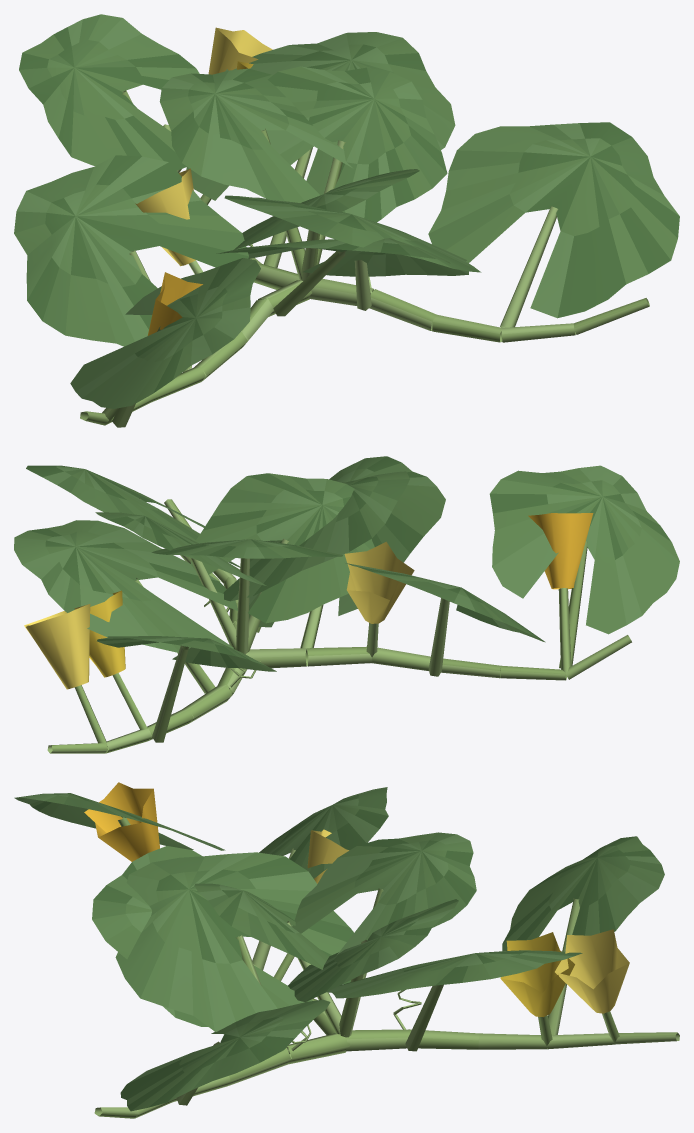
The model's file is melon_fleurs.glb.
3 renders of one model, top to bottom at view 1: azimuth 30°, elevation 25°; view 2: azimuth 150°, elevation 25°; view 3: azimuth 270°, elevation 25°, orthographic. The views are drawn at different scales.
Visible parts, largest first — view 1: Melon_Feuilles, Melon_Tiges, Melon_Fleurs; view 2: Melon_Feuilles, Melon_Tiges, Melon_Fleurs; view 3: Melon_Feuilles, Melon_Tiges, Melon_Fleurs.
Boxes of the visible parts, x1=… form: Melon_Feuilles: x1=14, y1=14, x2=679, y2=408; Melon_Tiges: x1=80, y1=90, x2=649, y2=427; Melon_Fleurs: x1=135, y1=27, x2=272, y2=335; Melon_Feuilles: x1=14, y1=456, x2=679, y2=671; Melon_Tiges: x1=47, y1=498, x2=631, y2=753; Melon_Fleurs: x1=24, y1=513, x2=593, y2=689; Melon_Feuilles: x1=14, y1=787, x2=664, y2=1111; Melon_Tiges: x1=94, y1=817, x2=679, y2=1118; Melon_Fleurs: x1=84, y1=782, x2=629, y2=1017.
Size of the model in its own units: 0.8368 by 0.2496 by 0.8203.
